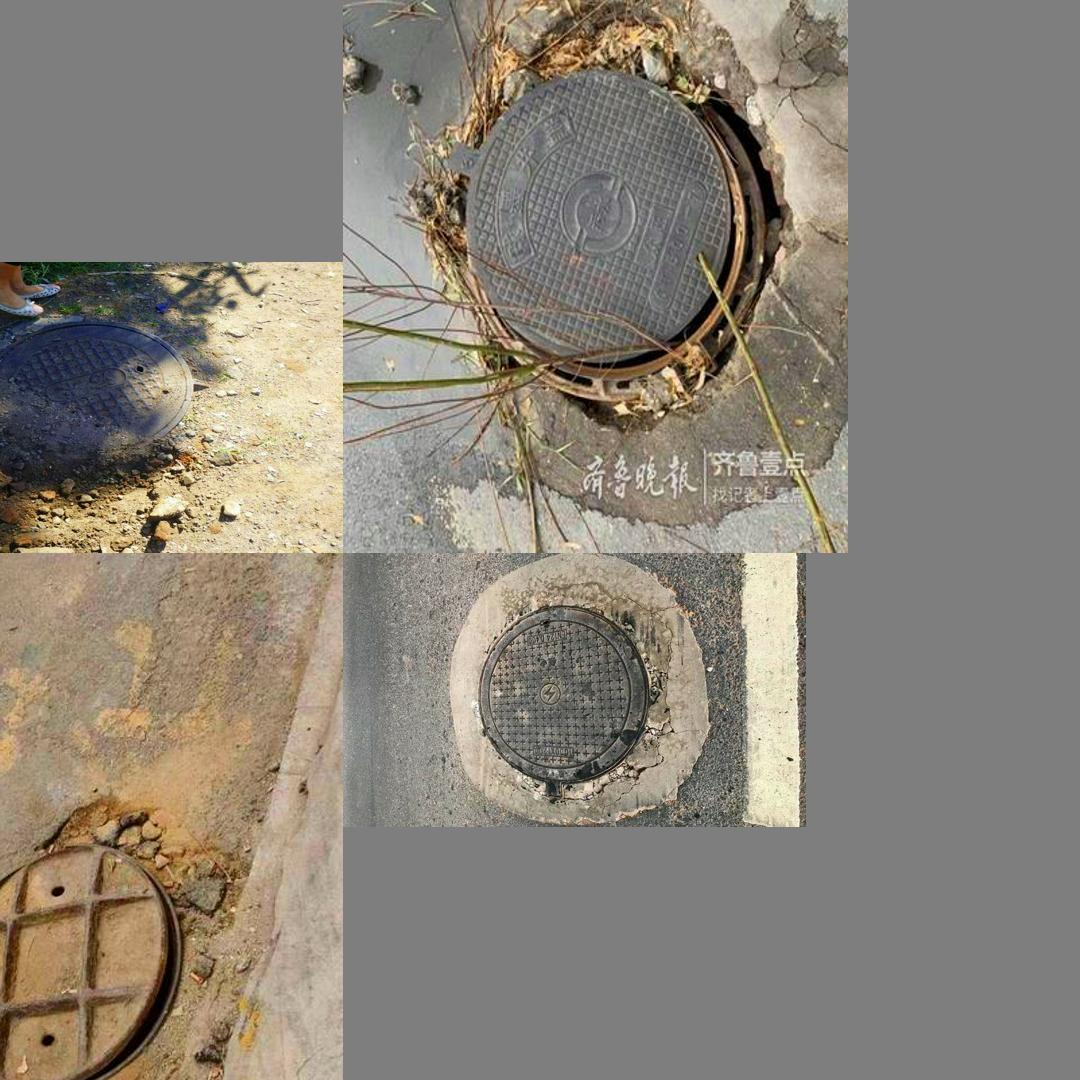circle: (394, 0, 841, 514), (0, 765, 279, 1080), (451, 560, 708, 821), (0, 317, 246, 476)
